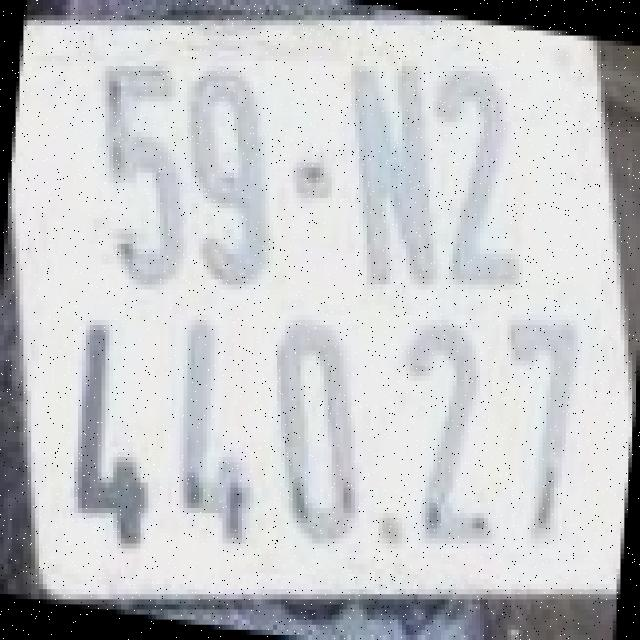0: (273, 315, 367, 543)
2: (398, 312, 496, 546), (433, 64, 527, 292)
4: (68, 320, 154, 554), (172, 312, 254, 551)
5: (98, 58, 188, 287)
7: (502, 312, 584, 546)
9: (187, 63, 273, 287)
N: (349, 58, 435, 292)
